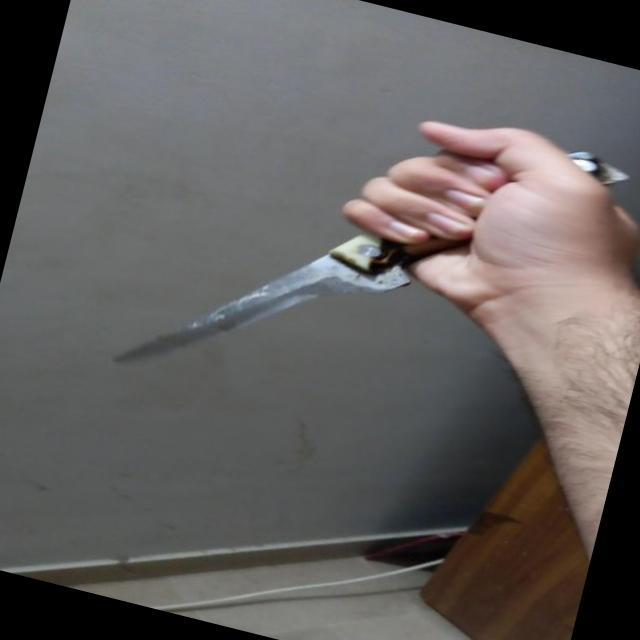Knife: (89, 38, 640, 472)
